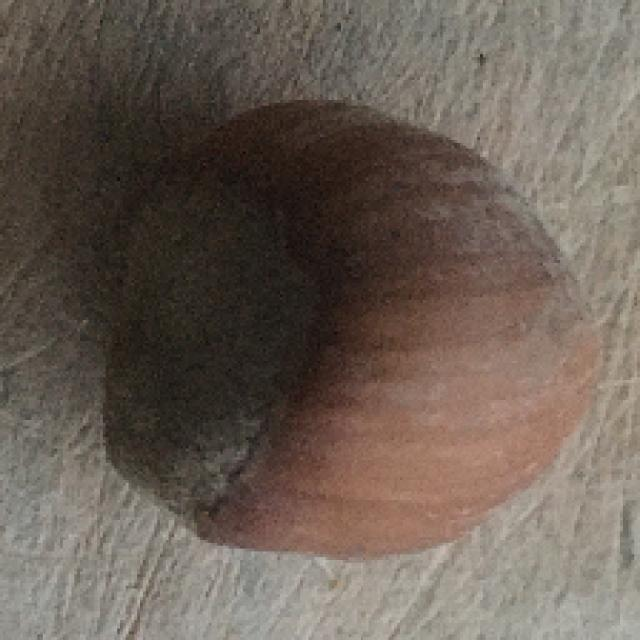QualityHazelnut: (94, 106, 599, 564)
